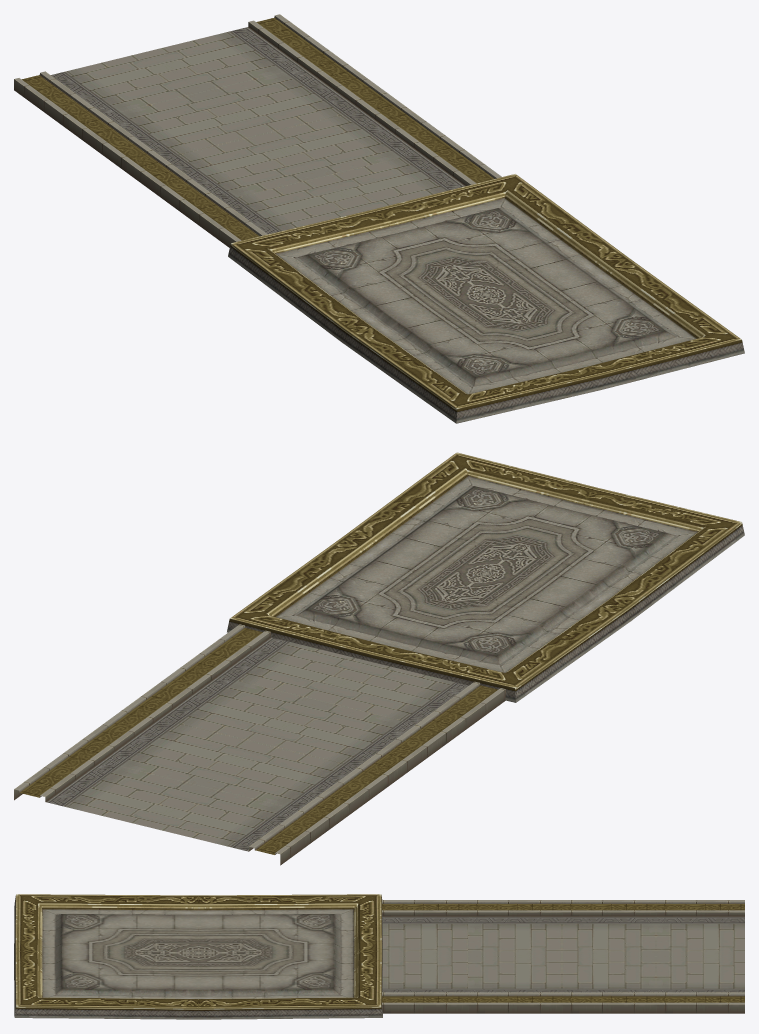
Rendered from Item_3001_wujian002_diban_01.FBX.
3 views of the same model, one above another, from view 1: azimuth 30°, elevation 25°; view 2: azimuth 150°, elevation 25°; view 3: azimuth 270°, elevation 25° (orthographic). The views are drawn at different scales.
Parts seen in each view (by area): view 1: Item_3001_wujian002_diban_01; view 2: Item_3001_wujian002_diban_01; view 3: Item_3001_wujian002_diban_01.
Boxes of the visible parts, x1,y1,x2,y2 form: Item_3001_wujian002_diban_01: [14, 14, 744, 423]; Item_3001_wujian002_diban_01: [14, 452, 744, 865]; Item_3001_wujian002_diban_01: [14, 894, 744, 1019].
Bounding box in the file's own units: 616 × 31.03 × 1668.
